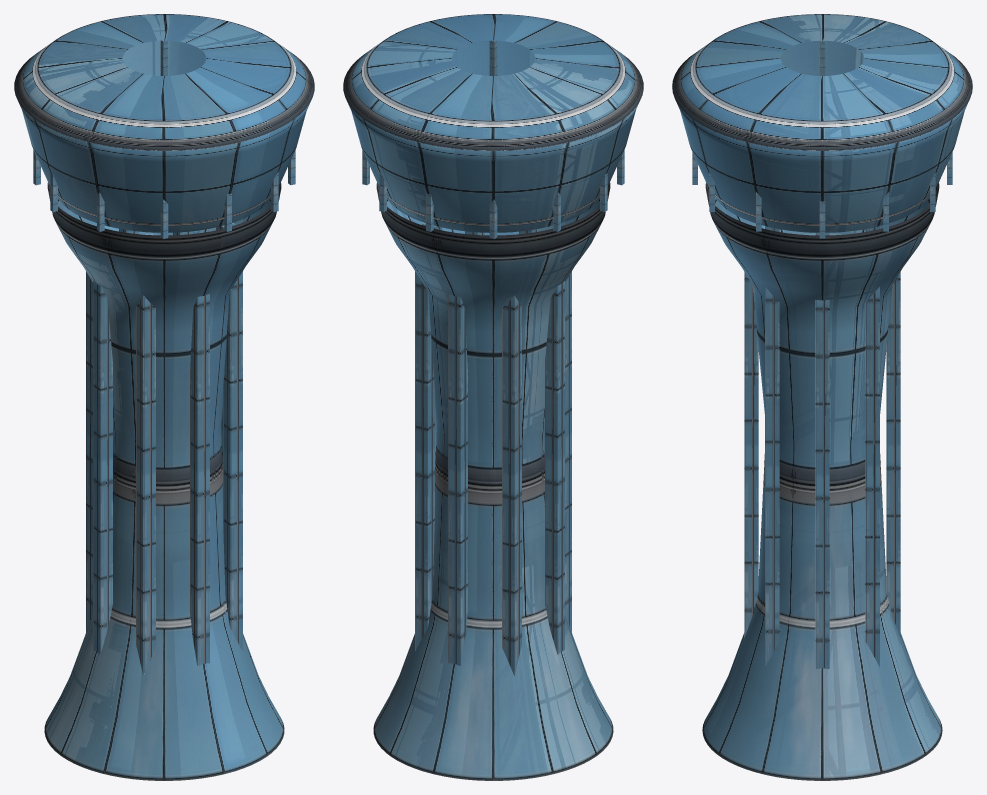
File: control_tower.glb
The picture shows the model from 3 angles, left to right: view 1: azimuth 30°, elevation 25°; view 2: azimuth 150°, elevation 25°; view 3: azimuth 270°, elevation 25°; orthographic projection.
Bounding box in the file's own units: 28.8 × 71 × 28.8.
1 material, 1 textured.
